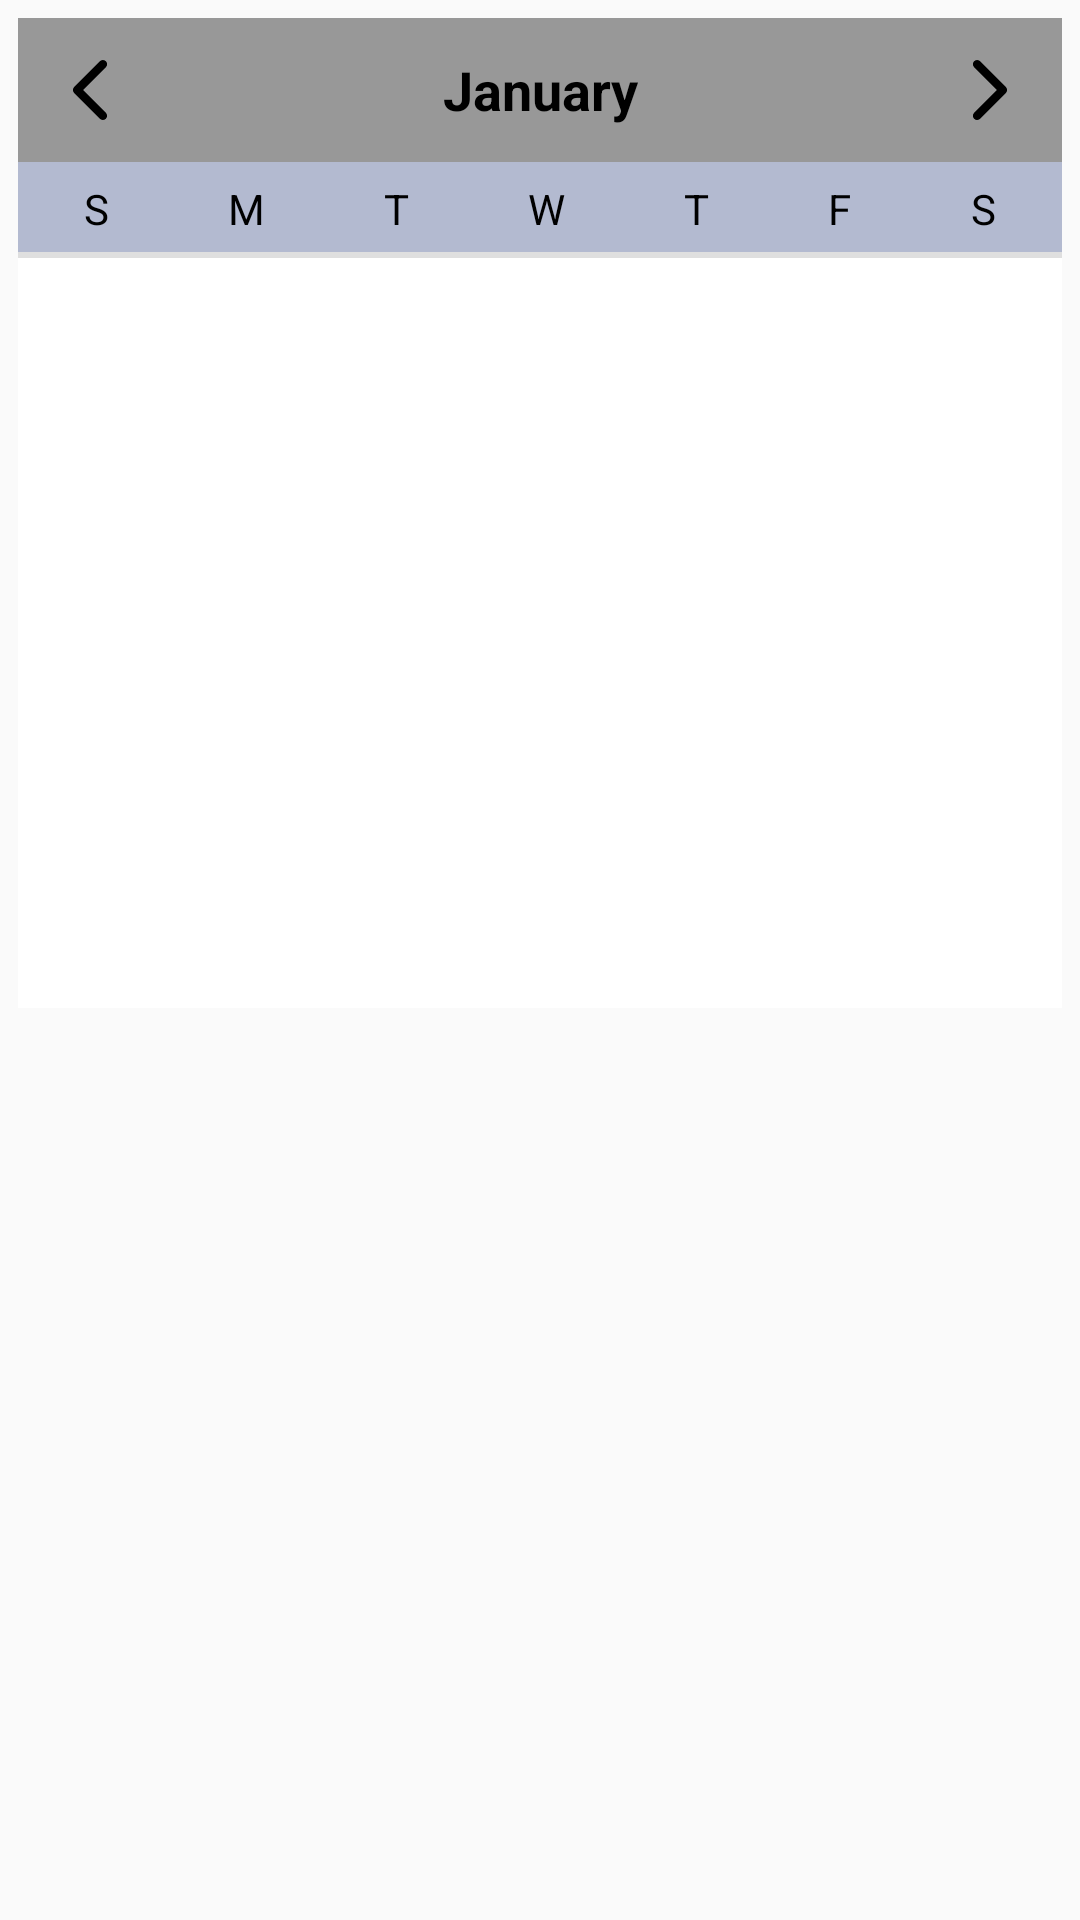

Screen size 1080px x 1920px. Icon name, then its box in pixels as region(x1, y1, x2, y2):
arrow left: region(73, 60, 107, 120)
arrow right: region(973, 60, 1007, 120)
